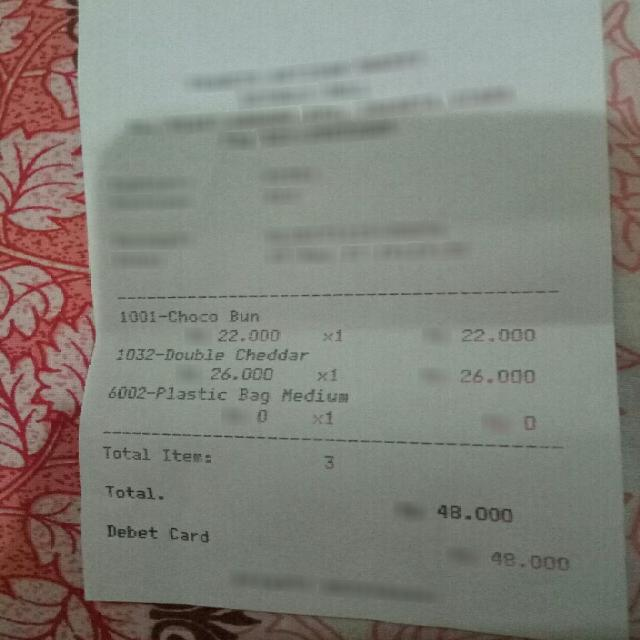kertas: (81, 1, 628, 640)
